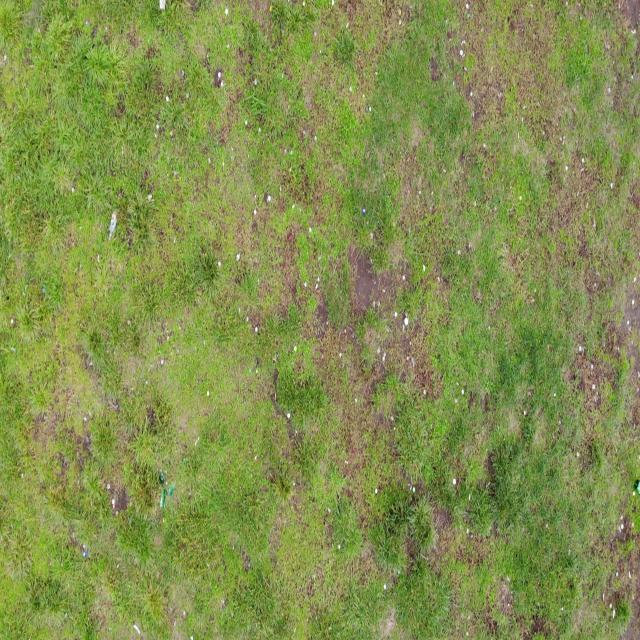rubbish: (108, 205, 119, 242), (160, 488, 167, 509), (167, 482, 178, 495), (634, 478, 639, 495), (159, 471, 164, 482), (159, 1, 164, 10)
